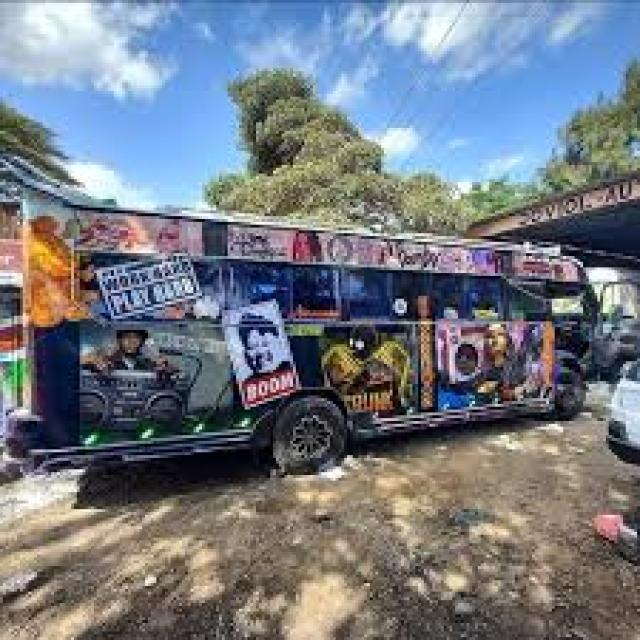bus: (0, 77, 631, 485)
